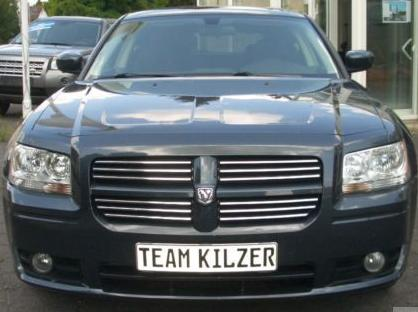front_view: (14, 115, 408, 292)
headlight: (329, 134, 406, 210)
